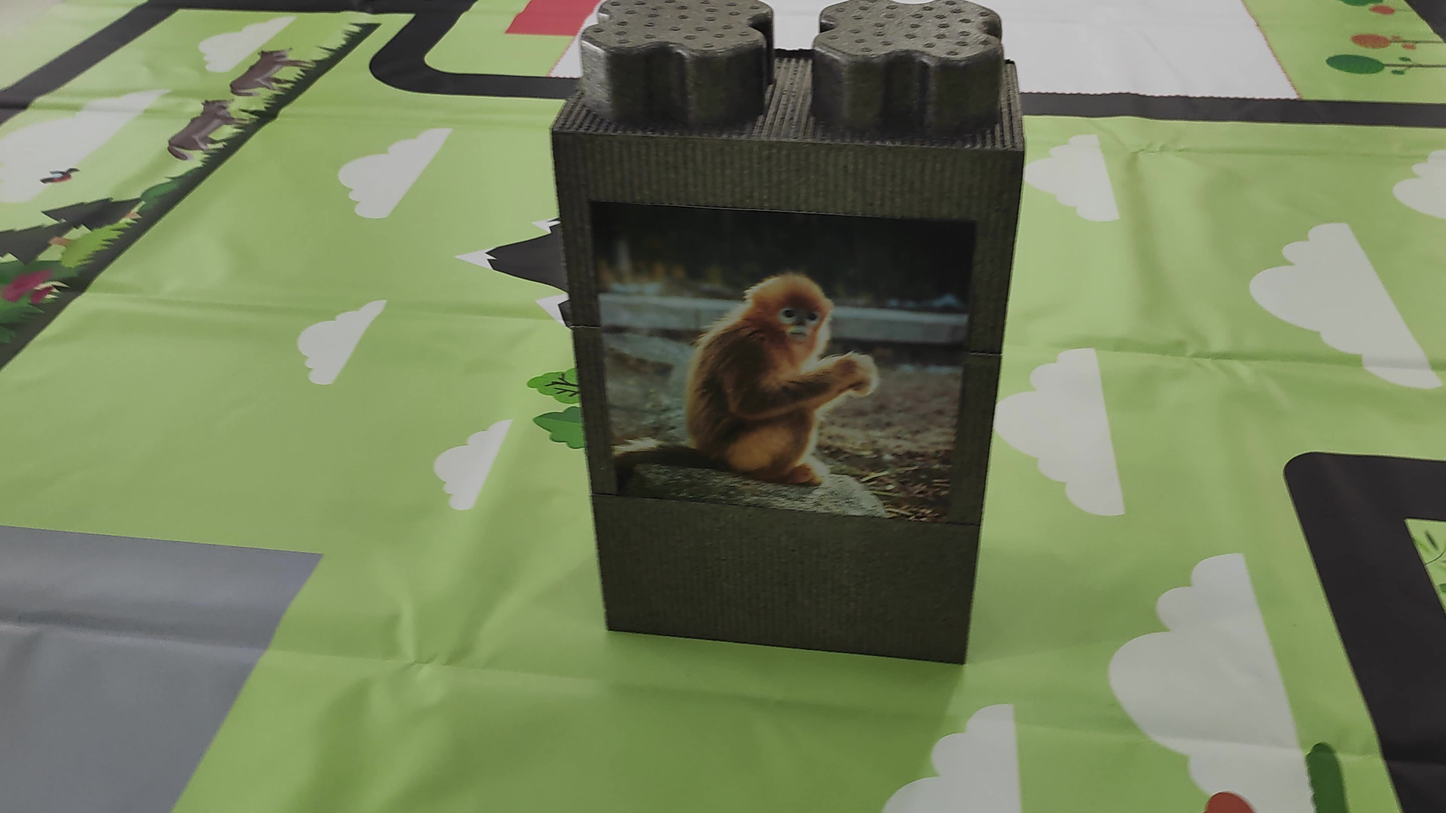monkey: (642, 259, 897, 475)
